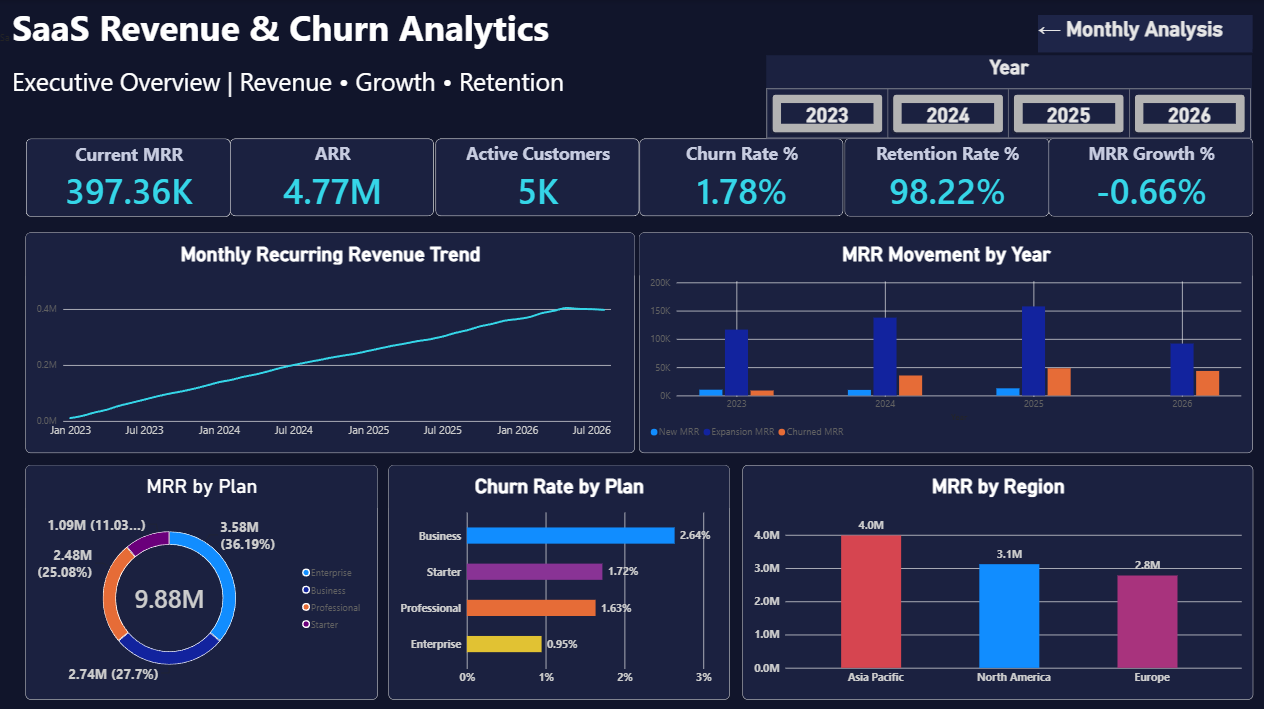

Layout of this report page (visuals, bound fields, positions):
{"tool":"powerbi","page":{"name":"Executive Overview","canvas":[1920,1080],"ordinal":1},"visuals":[{"type":"cardVisual","fields":{"Data":["Date.Current MRR"]},"box":[38.4,209,310.6,119.4],"z":1},{"type":"cardVisual","fields":{"Data":["Date.Active Customers"]},"box":[658.2,209,310.6,119.4],"z":3},{"type":"cardVisual","fields":{"Data":["Date.Churn Rate %"]},"box":[968,209,310.6,119.4],"z":4},{"type":"cardVisual","fields":{"Data":["Date.Retention Rate %"]},"box":[1277.9,209,310.6,119.4],"z":5},{"type":"cardVisual","fields":{"Data":["Date.MRR Growth %"]},"box":[1587.7,209,310.6,119.4],"z":6},{"type":"cardVisual","fields":{"Data":["Date.ARR"]},"box":[348.3,209,310.6,119.4],"z":7},{"type":"lineChart","title":"Monthly Recurring Revenue Trend","fields":{"Category":["Date.Date"],"Y":["Date.Total MRR"]},"box":[38.4,353.1,922.4,333.9],"z":8},{"type":"clusteredColumnChart","title":"MRR Movement by Year","fields":{"Category":["Date.Year"],"Y":["Date.New MRR","Date.Expansion MRR","Date.Churned MRR"]},"box":[968,353.1,929.6,333.9],"z":9},{"type":"donutChart","title":"MRR by Plan","fields":{"Category":["plans.plan_name"],"Y":["Date.Total MRR"]},"box":[38.4,703.8,533.2,355.5],"z":10},{"type":"clusteredBarChart","title":"Churn Rate by Plan","fields":{"Category":["plans.plan_name"],"Y":["Date.Churn Rate %"]},"box":[588.5,703.8,516.4,355.5],"z":11},{"type":"clusteredColumnChart","title":"MRR by Region","fields":{"Category":["regions.region"],"Y":["Date.Total MRR"]},"box":[1124.1,703.8,773.4,355.5],"z":12},{"type":"textbox","box":[19.2,98.5,948.8,55.2],"z":13},{"type":"textbox","box":[0,4.8,879.1,93.7],"z":14},{"type":"advancedSlicerVisual","fields":{"Values":["Date.Year"]},"box":[1160.6,84,734.8,125.9],"z":17},{"type":"actionButton","title":"  ← Monthly Analysis","box":[1571.7,22.7,324.8,56.8],"z":18}]}

Visuals, with their boxes in screenshot pixels (x1, y1, x2, y2), scaled from the page's 1920x1080 canvas onto the 1264x709 screenshot:
cardVisual - Date.Current MRR: 25/137/230/216
cardVisual - Date.Active Customers: 433/137/638/216
cardVisual - Date.Churn Rate %: 637/137/842/216
cardVisual - Date.Retention Rate %: 841/137/1046/216
cardVisual - Date.MRR Growth %: 1045/137/1250/216
cardVisual - Date.ARR: 229/137/434/216
"Monthly Recurring Revenue Trend" lineChart: 25/232/633/451
"MRR Movement by Year" clusteredColumnChart: 637/232/1249/451
"MRR by Plan" donutChart: 25/462/376/695
"Churn Rate by Plan" clusteredBarChart: 387/462/727/695
"MRR by Region" clusteredColumnChart: 740/462/1249/695
textbox: 13/65/637/101
textbox: 0/3/579/65
advancedSlicerVisual - Date.Year: 764/55/1248/138
"  ← Monthly Analysis" actionButton: 1035/15/1249/52
